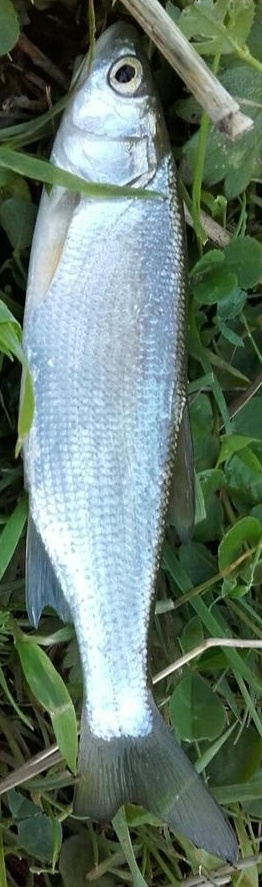Aspius aspius: (20, 20, 242, 867)
